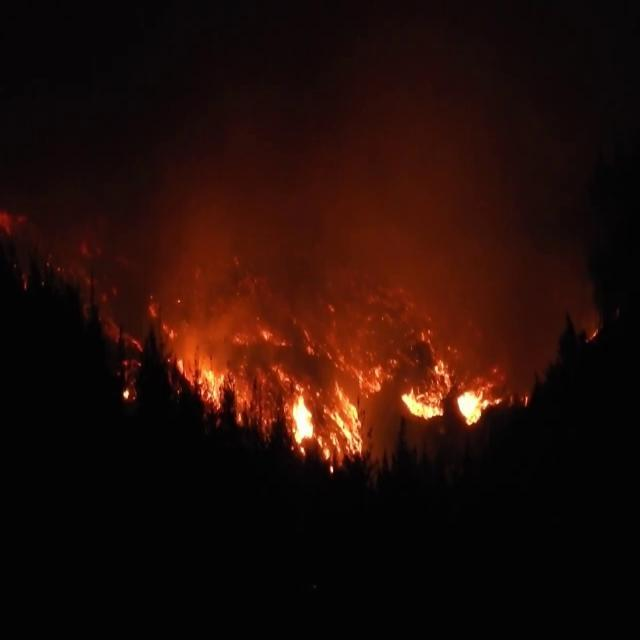Fire: (180, 280, 498, 460), (293, 397, 315, 449), (403, 392, 442, 420), (456, 390, 481, 422)
Smoke: (136, 101, 519, 262)
